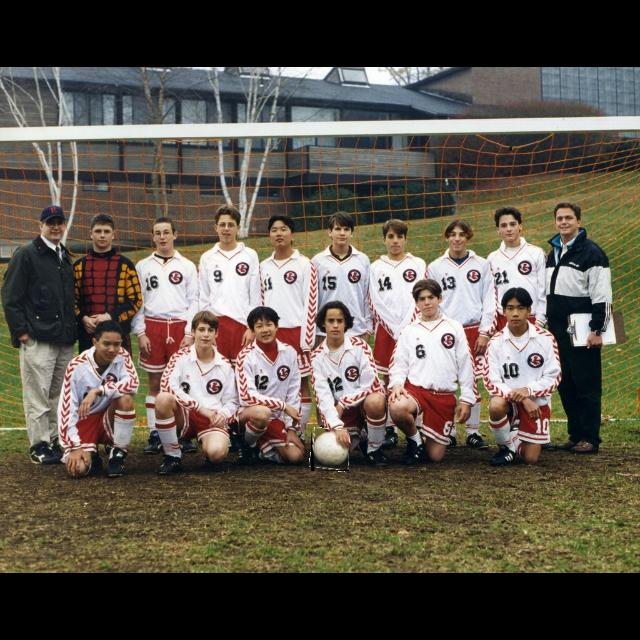Football: (311, 429, 349, 471)
